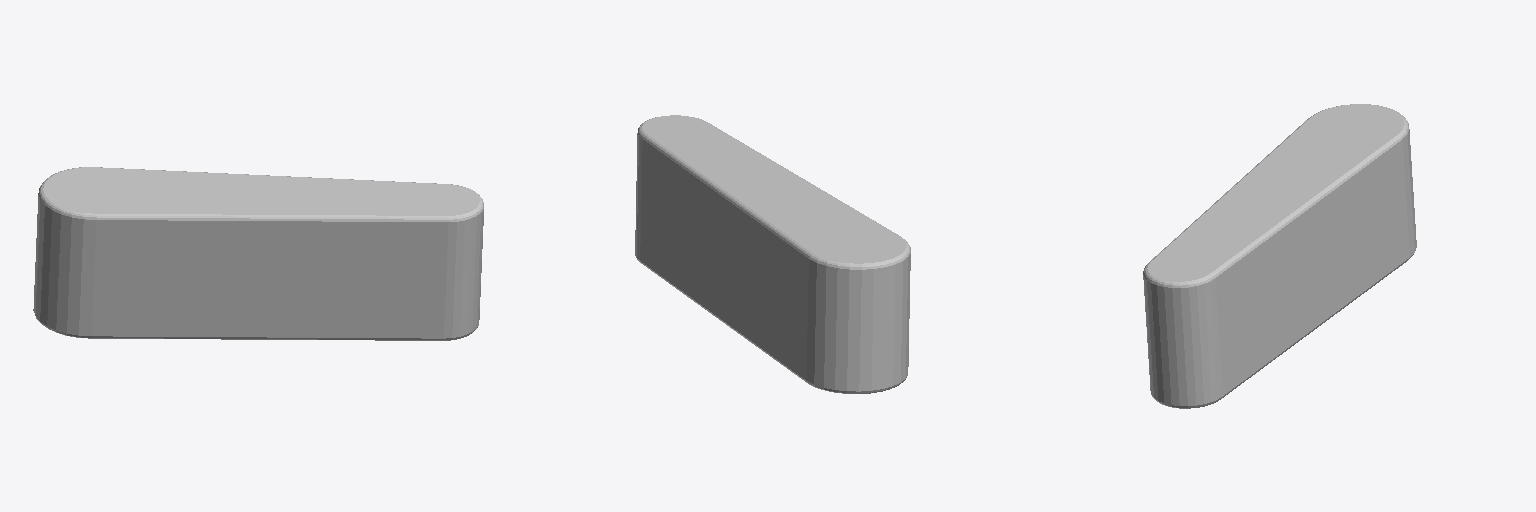
Rendered from paletazquierda.obj.
3 views of the same model, side by side, from view 1: azimuth 30°, elevation 25°; view 2: azimuth 150°, elevation 25°; view 3: azimuth 270°, elevation 25° (orthographic).
Visible parts, largest first — view 1: polySurface44 ARCHMODELS_47_050_34; view 2: polySurface44 ARCHMODELS_47_050_34; view 3: polySurface44 ARCHMODELS_47_050_34.
Part boxes in pixels (x1,y1,x2,y2): polySurface44 ARCHMODELS_47_050_34: (33,167,483,340); polySurface44 ARCHMODELS_47_050_34: (635,115,910,393); polySurface44 ARCHMODELS_47_050_34: (1143,104,1416,408).
Bounding box in the file's own units: 7.29 × 2.86 × 4.96.